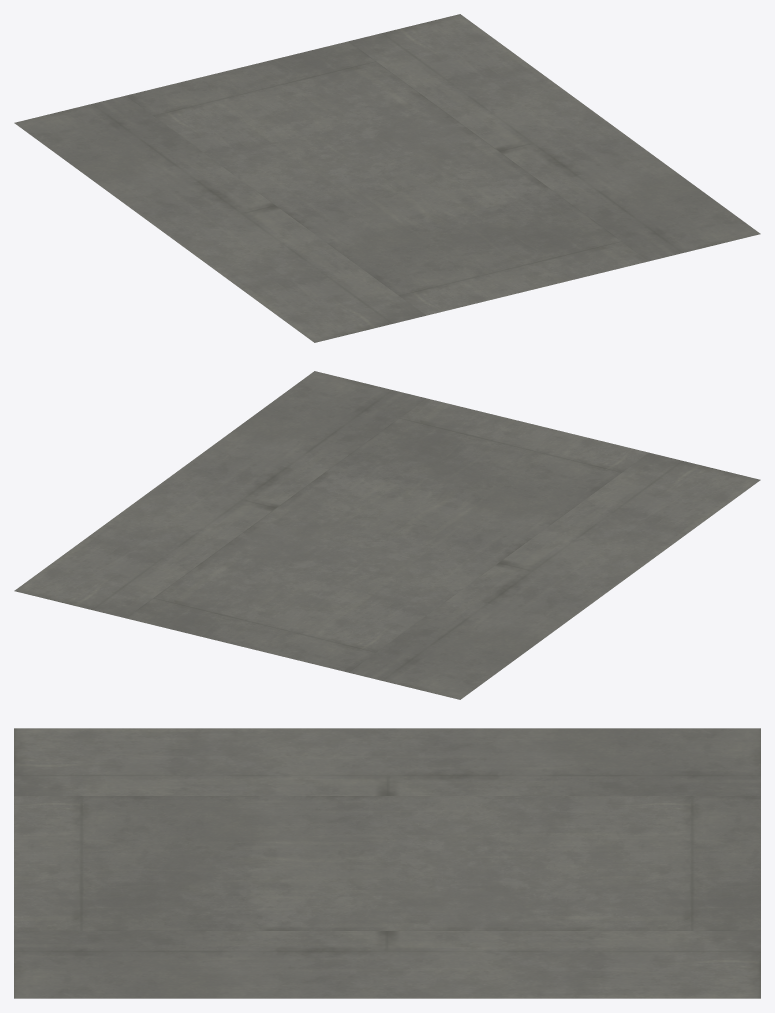
Rendered from FloorTiny.fbx.
3 views of the same model, one above another, from view 1: azimuth 30°, elevation 25°; view 2: azimuth 150°, elevation 25°; view 3: azimuth 270°, elevation 25° (orthographic). The views are drawn at different scales.
Visible parts, largest first — view 1: FloorTiny; view 2: FloorTiny; view 3: FloorTiny.
Boxes of the visible parts, left/top/right/bottom form: FloorTiny: left=14, top=14, right=760, bottom=342; FloorTiny: left=14, top=371, right=760, bottom=699; FloorTiny: left=14, top=728, right=760, bottom=998.
Size of the model in its own units: 6 by 0 by 7.
